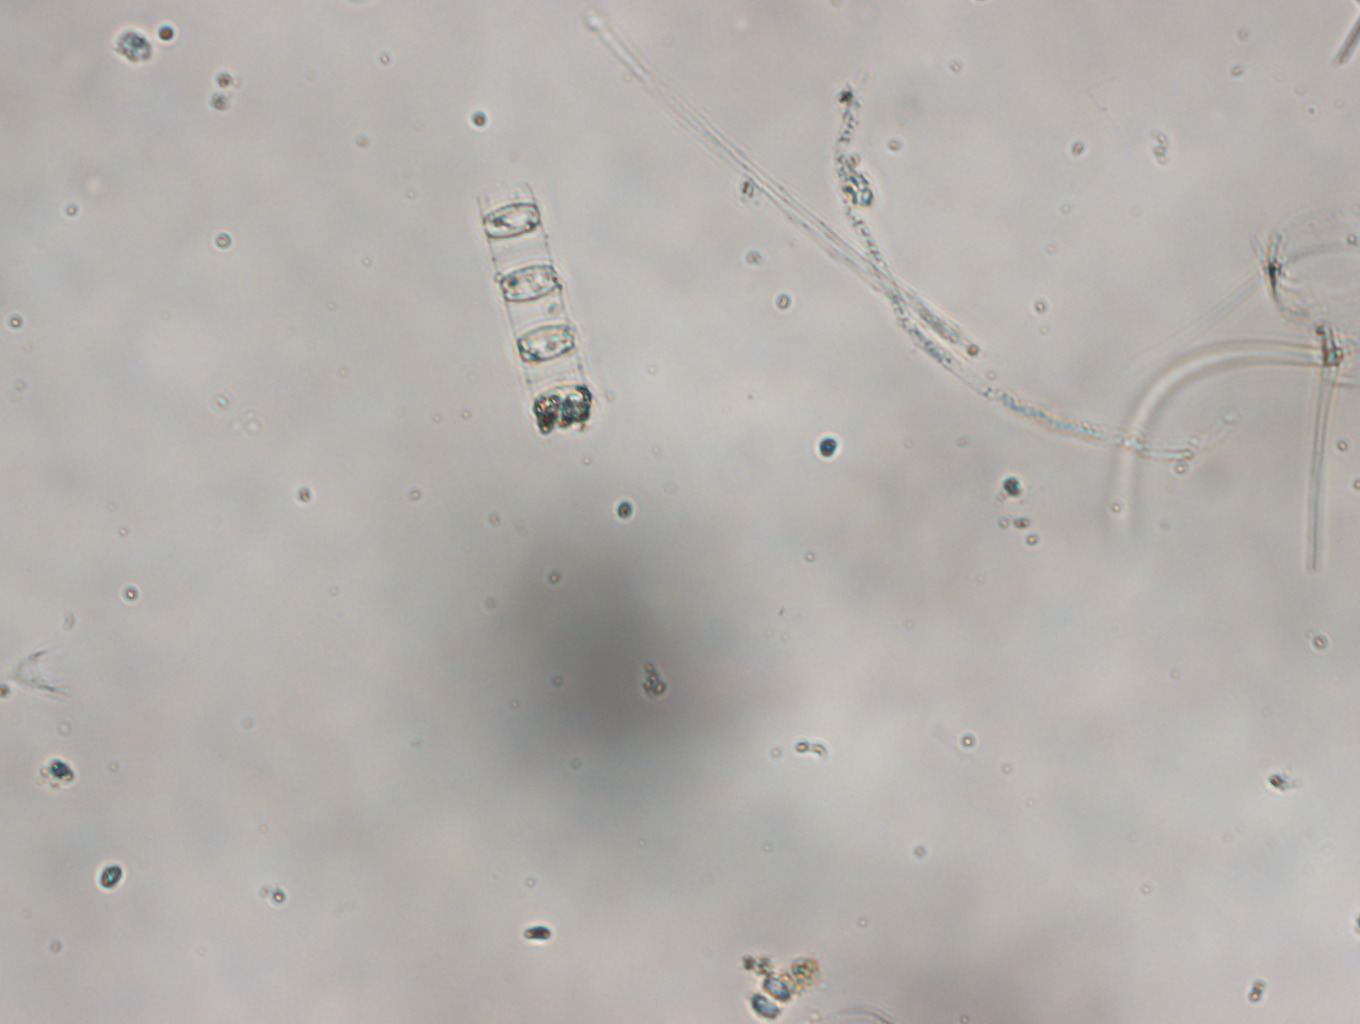skeletonema: (452, 186, 610, 441)
